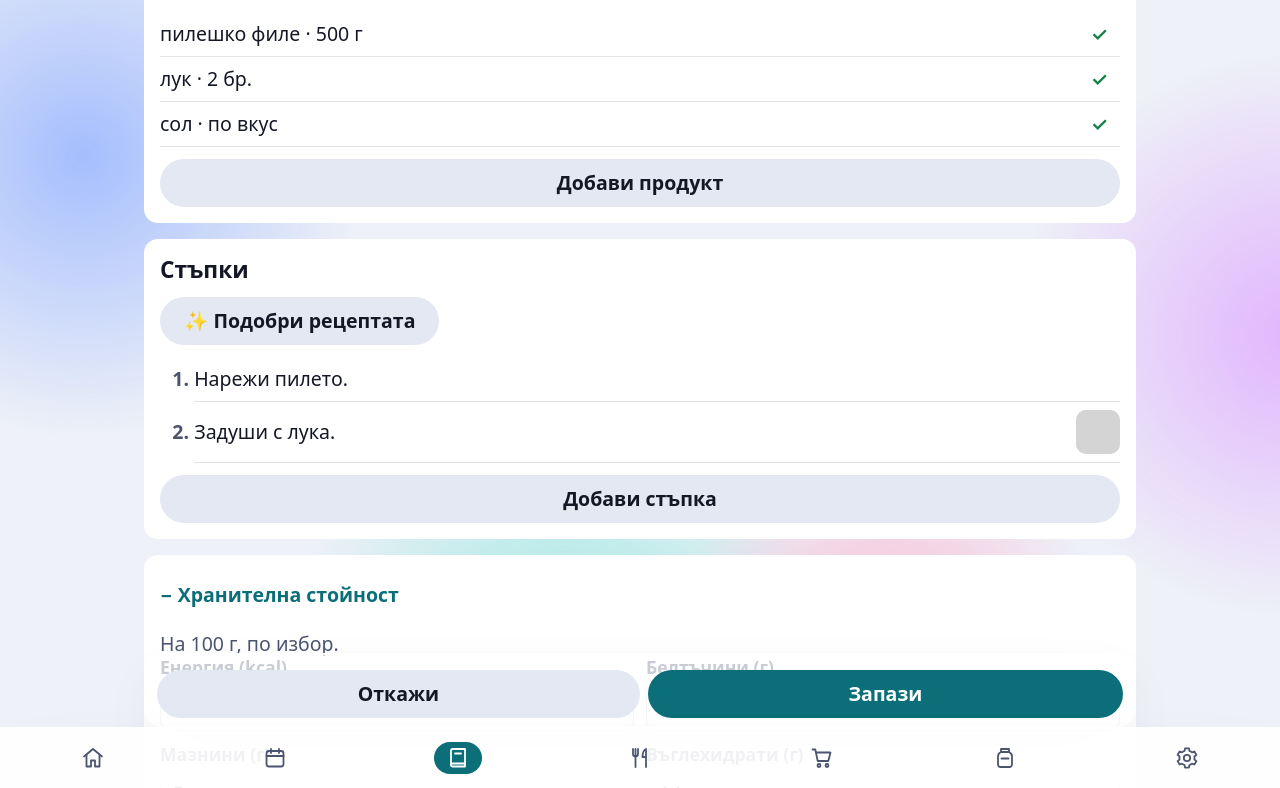
Test: „Подобри рецептата“ в редакцията › казва, че източникът не се е отворил и колко снимки не са се свалили
The image size is (1280, 788).
(page scrolled)
Click the button "✨ Подобри рецептата": [300, 320] box [160, 296, 440, 344]
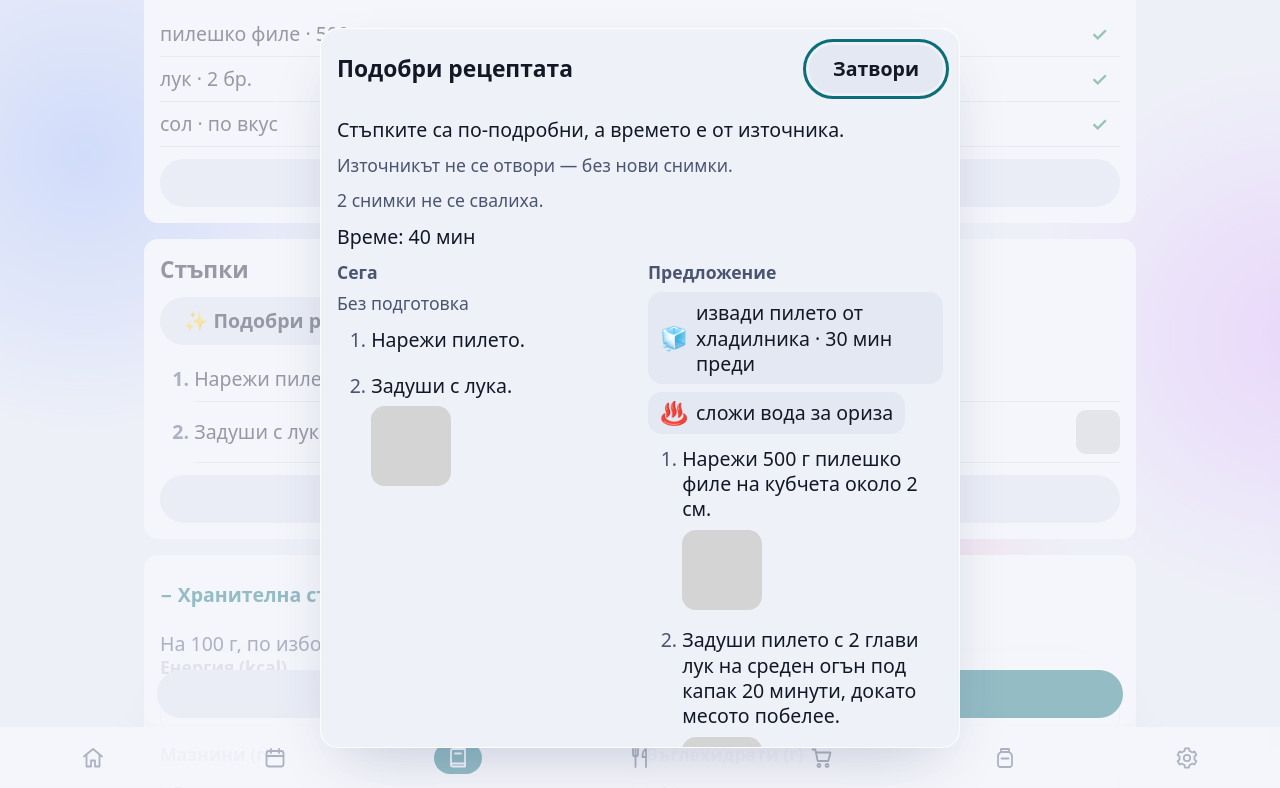
Result: the text "Източникът не се отвори — без нови снимки." is shown at [337, 153, 733, 177]
Result: the text "2 снимки не се свалиха." is shown at [337, 188, 543, 212]
